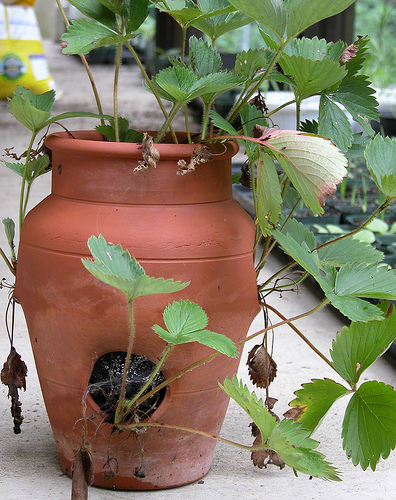tire: (16, 132, 259, 486)
